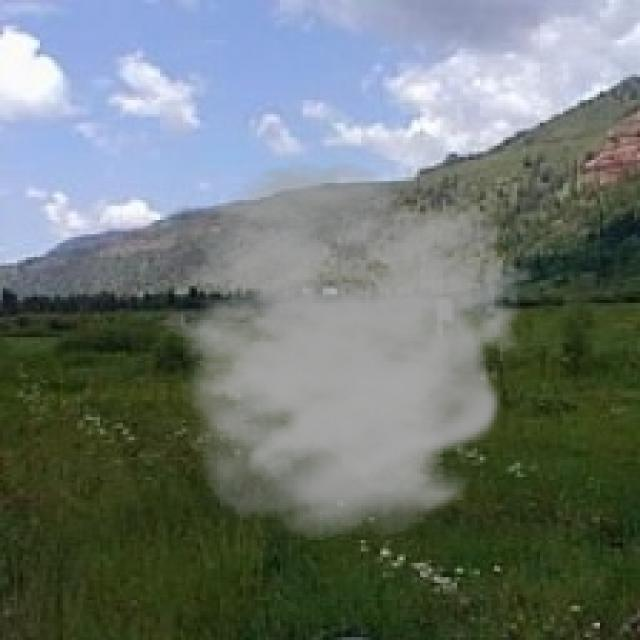smoke: (137, 160, 534, 540)
